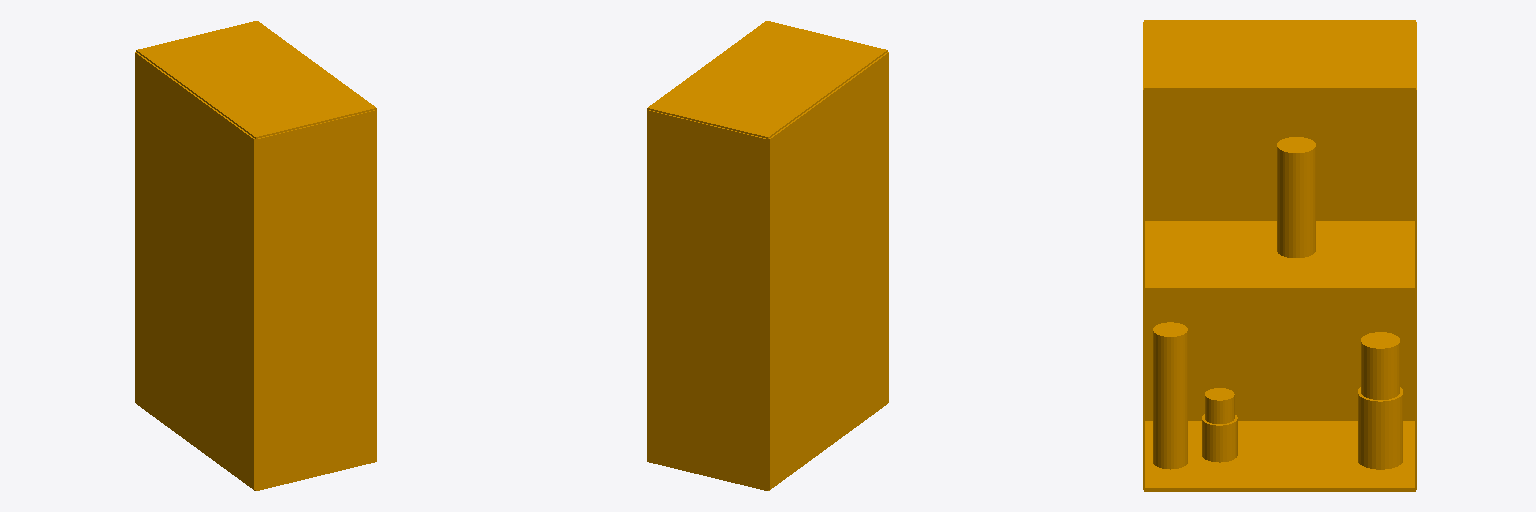
robot.urdf — syn_can_cabinet_1317:
<?xml version="1.0" ?>
<robot name="syn_can_cabinet_1317">
    <link concave="yes" name="base_link">
        <inertial>
            <origin rpy="0 0 0" xyz="0 0 0"/>
            <mass value="0.0"/>
            <inertia ixx="1e-08" ixy="0" ixz="0" iyy="1e-08" iyz="0" izz="1e-08"/>
        </inertial>
        <visual>
            <origin xyz="0 0 0" rpy="0 0 0" />
            <geometry>
                <mesh filename="syn_can_cabinet_1317.obj" scale="1.000000 1.000000 1.000000"/>
            </geometry>         
        </visual>

        <collision concave="yes">
            <origin xyz="0 0 0" rpy="0 0 0"/>
            <geometry>
                <mesh filename="syn_can_cabinet_1317.obj" scale="1.000000 1.000000 1.000000"/>
            </geometry>
        </collision>
    </link>
</robot>
    

--- Render facts (derived) ---
The picture shows the robot from 3 angles, left to right: view 1: azimuth 30°, elevation 25°; view 2: azimuth 150°, elevation 25°; view 3: azimuth 270°, elevation 25°; orthographic projection.
Robot: syn_can_cabinet_1317 — 1 links, 0 joints (none); root link base_link; default pose: every joint at zero.
Visible links, largest first — view 1: base_link; view 2: base_link; view 3: base_link.
Boxes of the visible links, left/top/right/bottom form: base_link: left=135, top=21, right=376, bottom=490; base_link: left=647, top=21, right=888, bottom=490; base_link: left=1143, top=20, right=1416, bottom=491.
Bounding box of the posed robot: 0.206 × 0.3504 × 0.568 m (x, y, z).
Meshes: 1 distinct files referenced, 1 mesh visuals loaded (1 OBJ).
